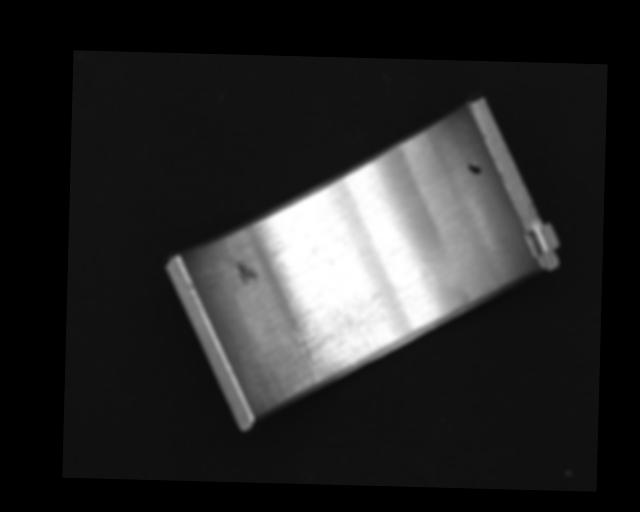blot: (466, 161, 482, 175)
bruise: (234, 262, 260, 285)
scratch: (279, 304, 383, 400)
